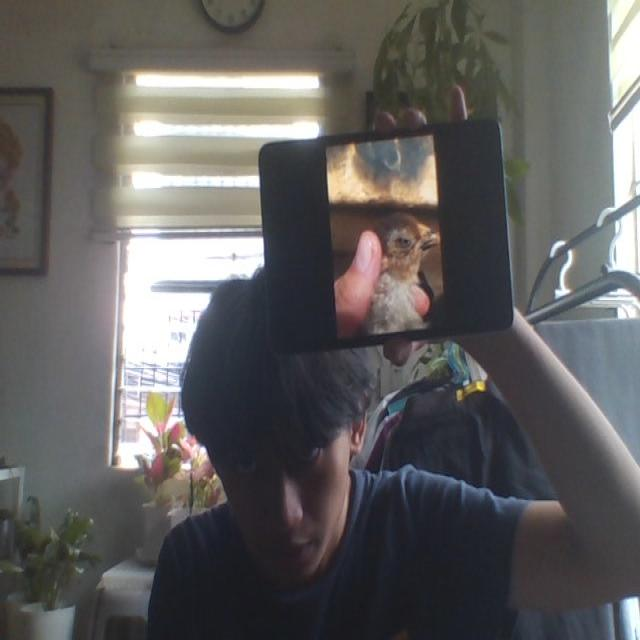Sick: (370, 212, 440, 337)
